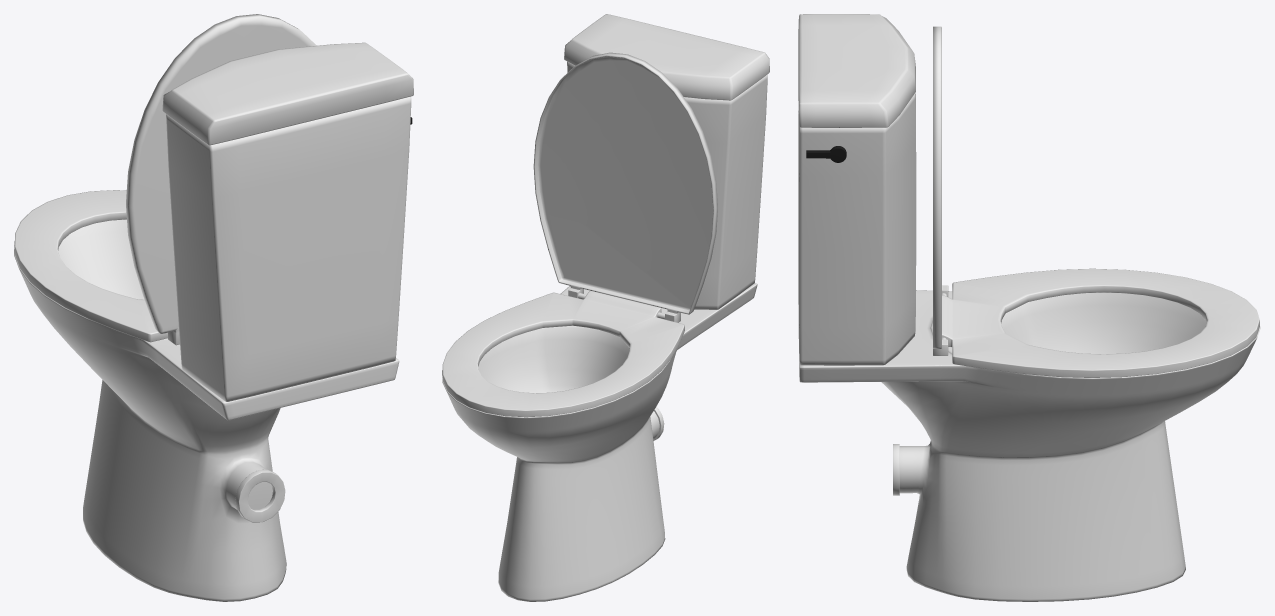
The model's file is Toilet02.fbx.
3 views of the same model, side by side, from view 1: azimuth 30°, elevation 25°; view 2: azimuth 150°, elevation 25°; view 3: azimuth 270°, elevation 25° (orthographic). The views are drawn at different scales.
Visible parts, largest first — view 1: Toilet02, ToiletCover02, ToiletSeat02; view 2: Toilet02, ToiletCover02, ToiletSeat02; view 3: Toilet02, ToiletSeat02, ToiletCover02.
Boxes of the visible parts, x1=… form: Toilet02: x1=14, y1=42, x2=413, y2=601; ToiletCover02: x1=126, y1=14, x2=316, y2=345; ToiletSeat02: x1=14, y1=190, x2=167, y2=342; Toilet02: x1=442, y1=14, x2=769, y2=601; ToiletCover02: x1=533, y1=52, x2=717, y2=322; ToiletSeat02: x1=442, y1=290, x2=684, y2=417; Toilet02: x1=798, y1=14, x2=1260, y2=601; ToiletSeat02: x1=942, y1=268, x2=1259, y2=377; ToiletCover02: x1=933, y1=26, x2=948, y2=355.
Size of the model in its own units: 33.67 by 82.42 by 64.38.
